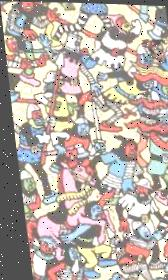waldo: (140, 38, 165, 62)
